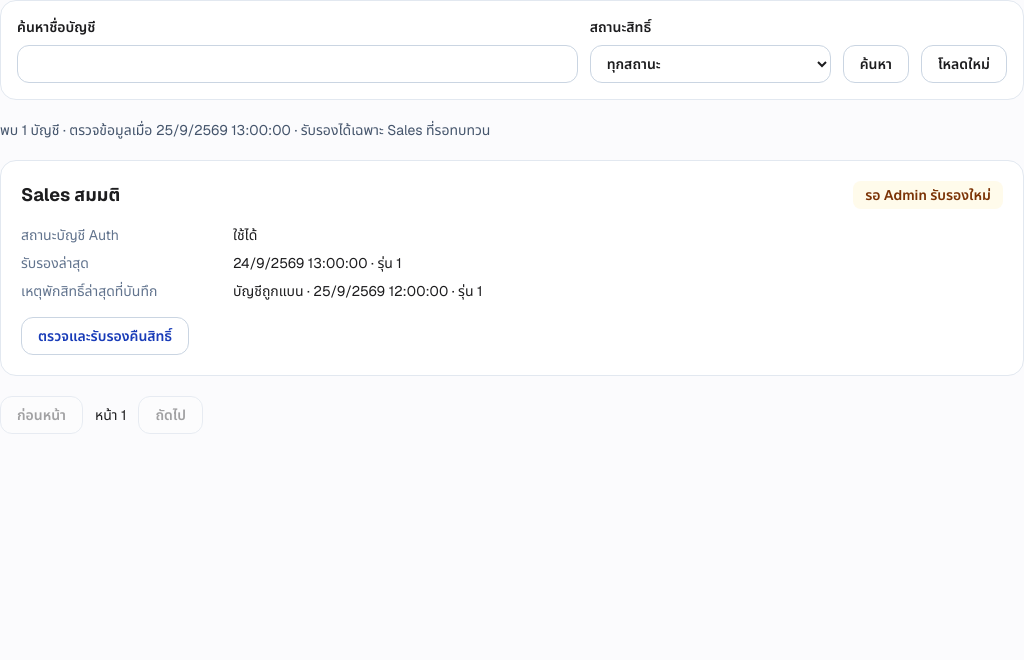
Sales restoration presentation › uncertain outcome freezes input and retries same id/payload; double clicks cannot send twice
Click the button "ตรวจและรับรองคืนสิทธิ์": (105, 336) [21, 317, 189, 355]
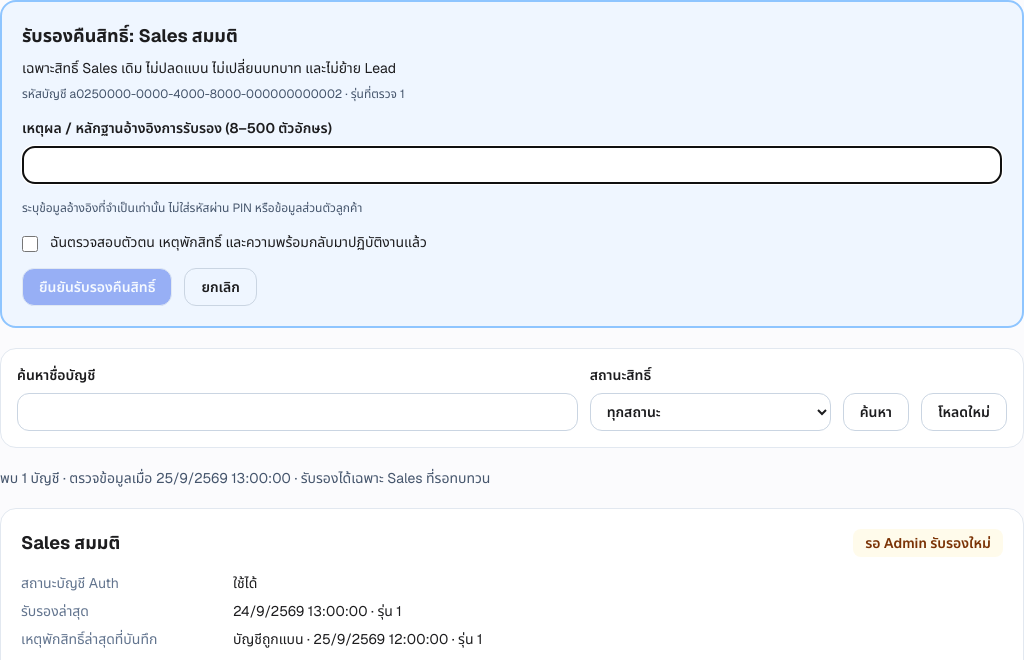
In the field labelled "เหตุผล / หลักฐานอ้างอิงการรับรอง (8–500 ตัวอักษร)": (512, 165) [22, 146, 1002, 184], type "ตรวจสอบตัวตนและความพร้อมแล้ว"
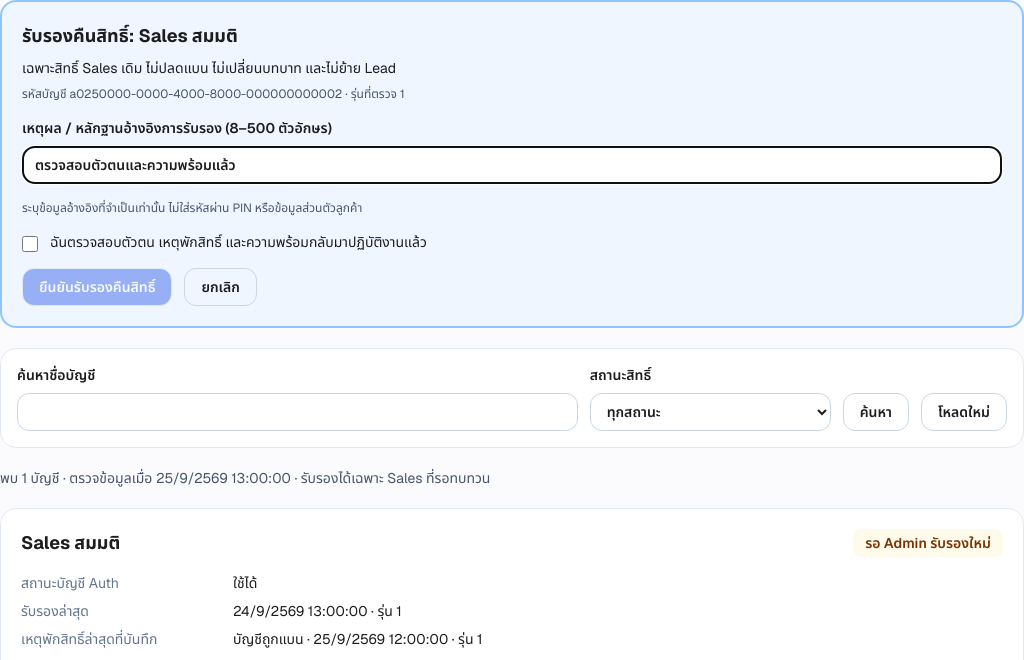
Click the checkbox: (30, 244) [22, 236, 38, 252]
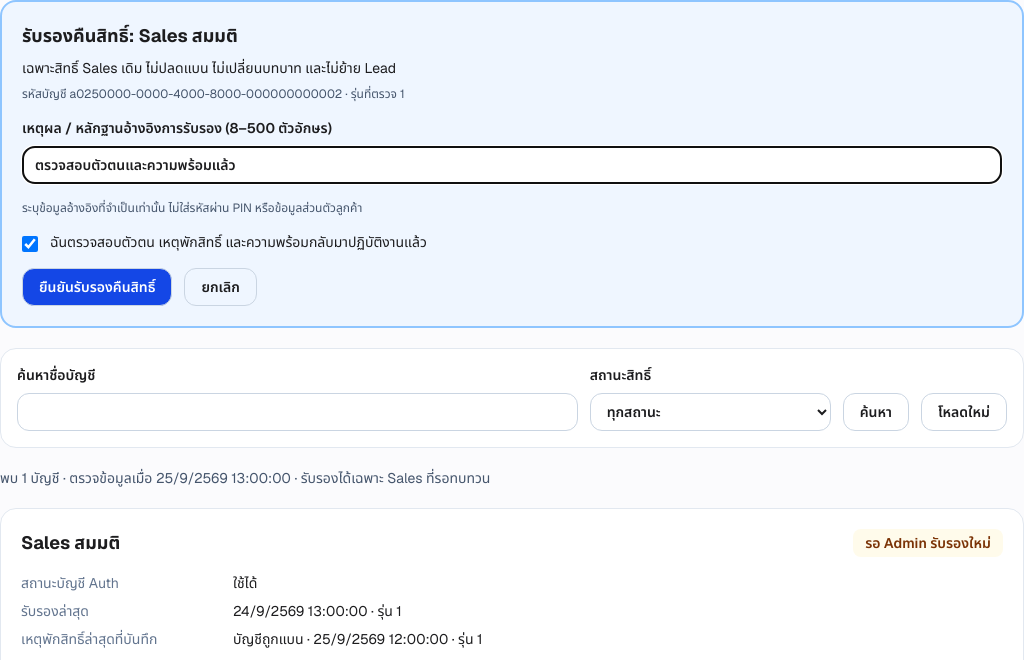
Click the button "ยืนยันรับรองคืนสิทธิ์": (97, 287) [22, 268, 172, 306]
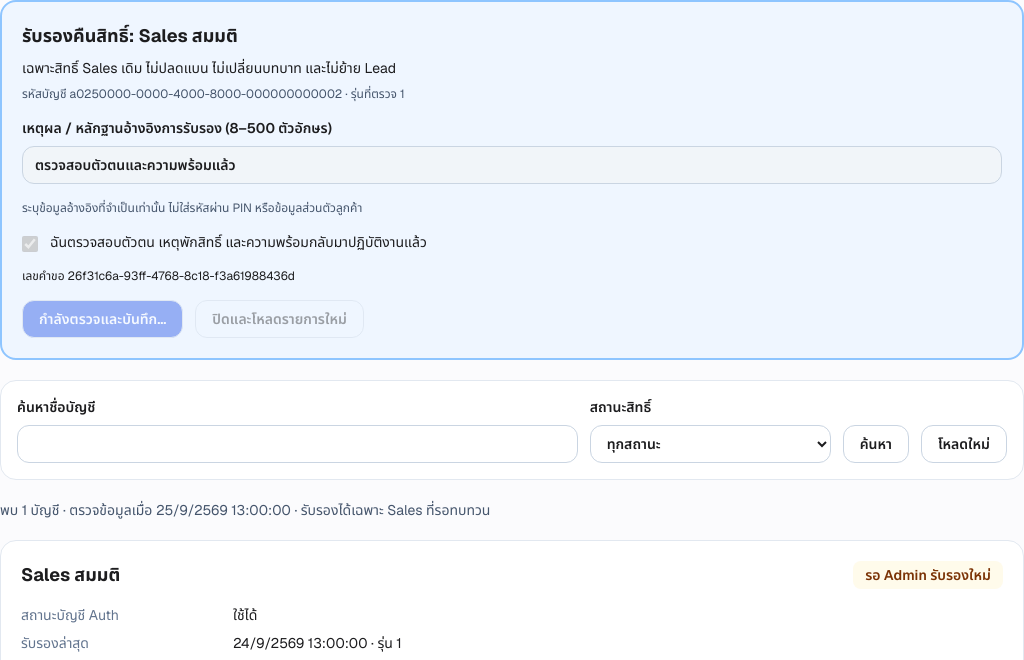
Click the button named "ยืนยันรับรองคืนสิทธิ์": (103, 319) [22, 300, 183, 338]
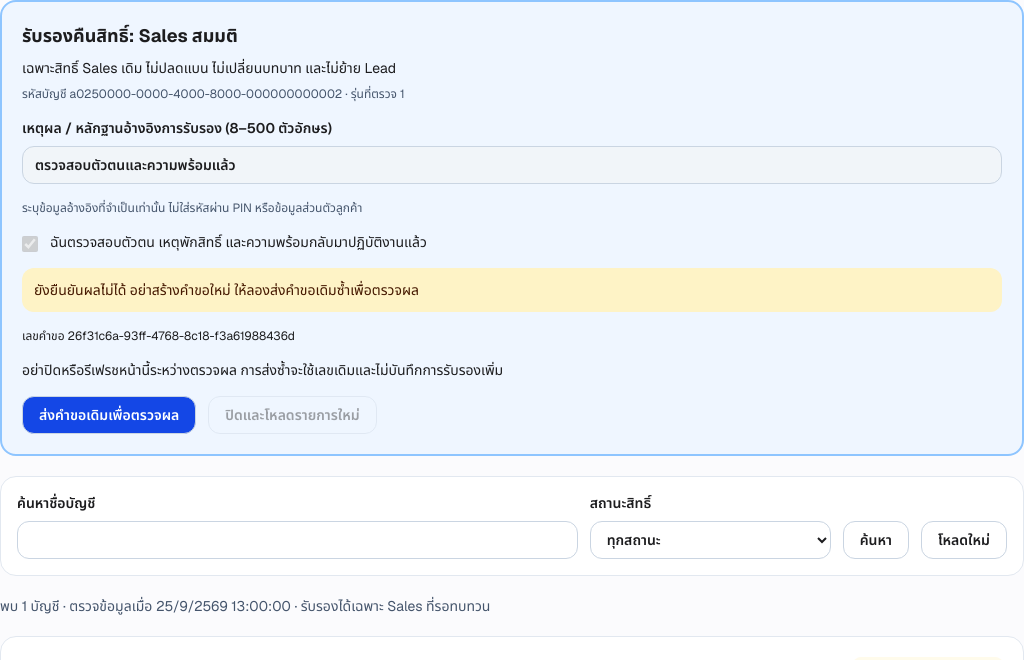
Now the field labelled "เหตุผล / หลักฐานอ้างอิงการรับรอง (8–500 ตัวอักษร)" is disabled, box [22, 146, 1002, 184]
Now the button "ปิดและโหลดรายการใหม่" is disabled, box [208, 396, 377, 434]
Click the button "ส่งคำขอเดิมเพื่อตรวจผล": (109, 415) [22, 396, 196, 434]
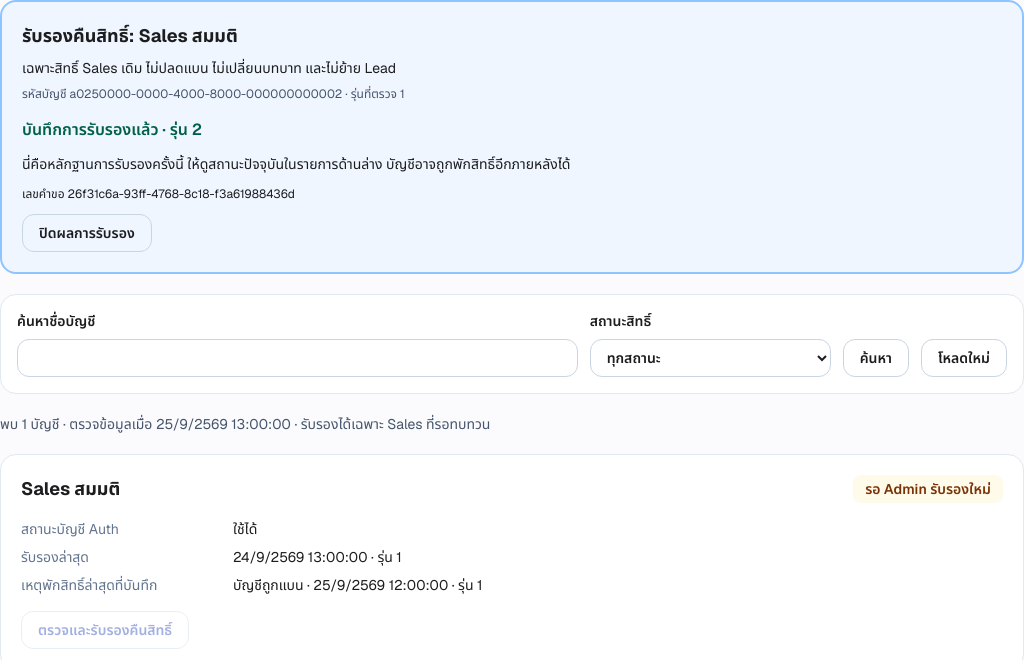
Now the text "บันทึกการรับรองแล้ว · รุ่น 2" is shown, box [22, 119, 202, 140]
